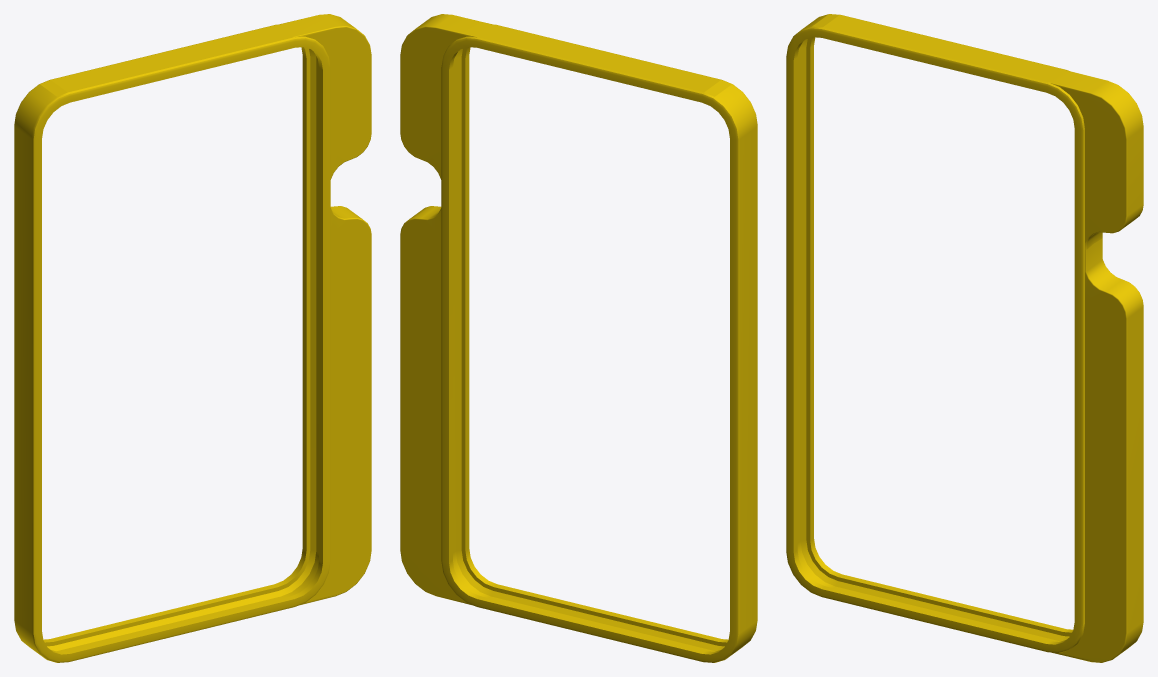
File: ContourDoor_high.fbx
The picture shows the model from 3 angles, left to right: view 1: azimuth 30°, elevation 25°; view 2: azimuth 150°, elevation 25°; view 3: azimuth 330°, elevation 25°; orthographic projection.
Visible parts, largest first — view 1: ContourDoor_high; view 2: ContourDoor_high; view 3: ContourDoor_high.
Boxes of the visible parts, x1,y1,x2,y2 form: ContourDoor_high: (14,14,371,662); ContourDoor_high: (400,14,757,662); ContourDoor_high: (786,14,1143,662).
Bounding box in the file's own units: 194 × 310 × 20.
